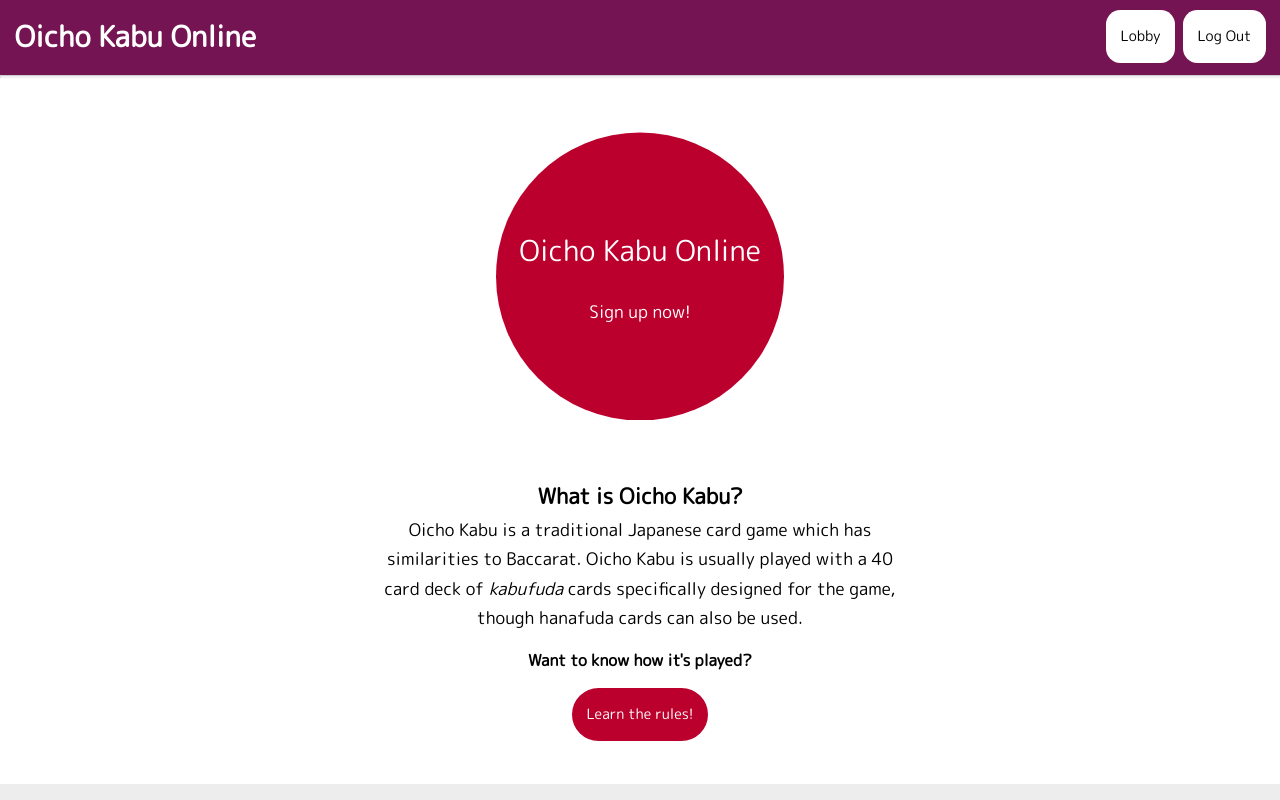
Scenario: Navbar › directs to lobby when 'Lobby' clicked
The image size is (1280, 800).
Click the link "Lobby" at (1141, 37), box left=1106, top=10, right=1175, bottom=63
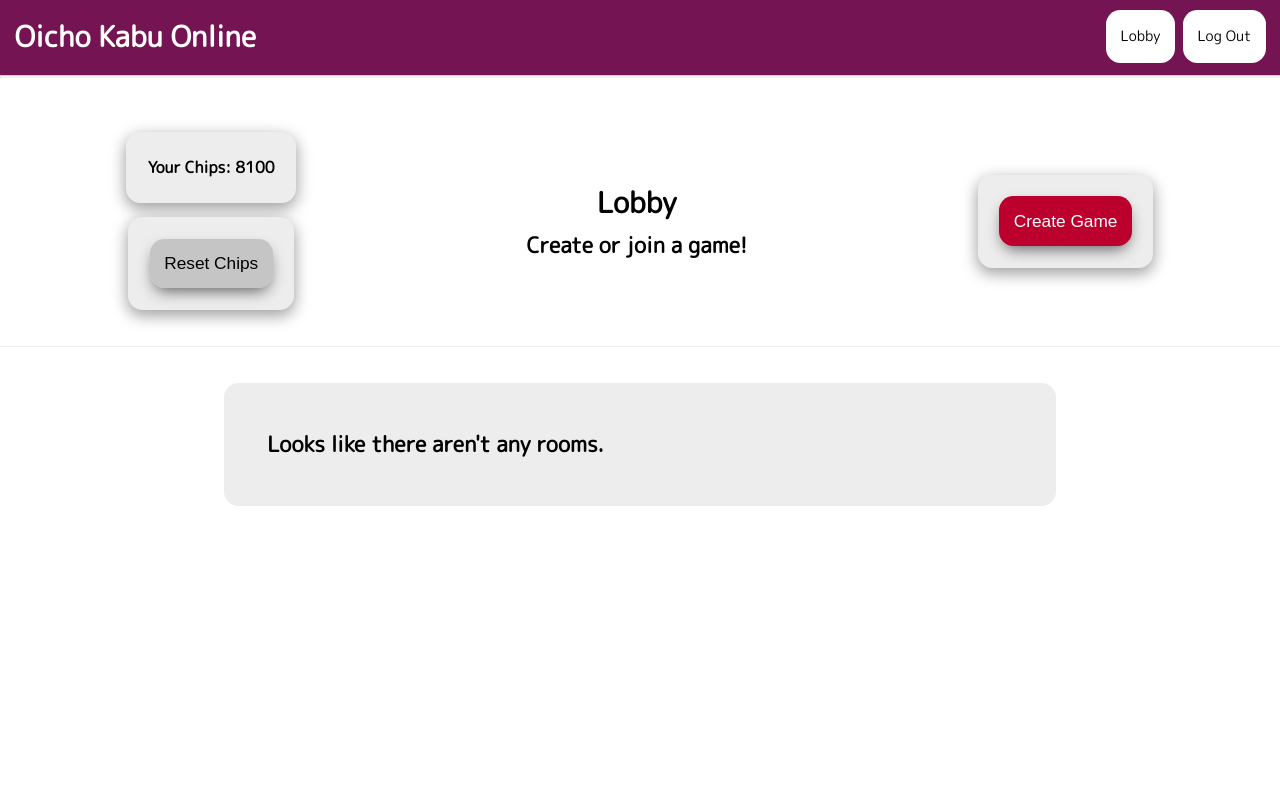
Expected: the heading "Create or join a game!" is shown, left=527, top=227, right=747, bottom=264
